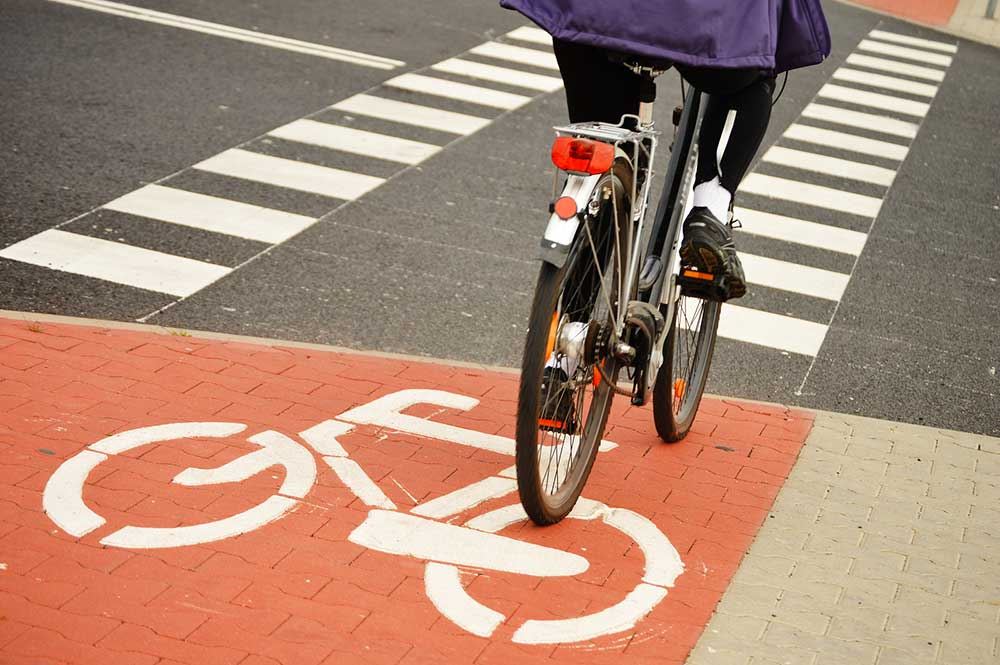Bicycle: (497, 85, 755, 535)
Crosswalk: (30, 11, 529, 326)
